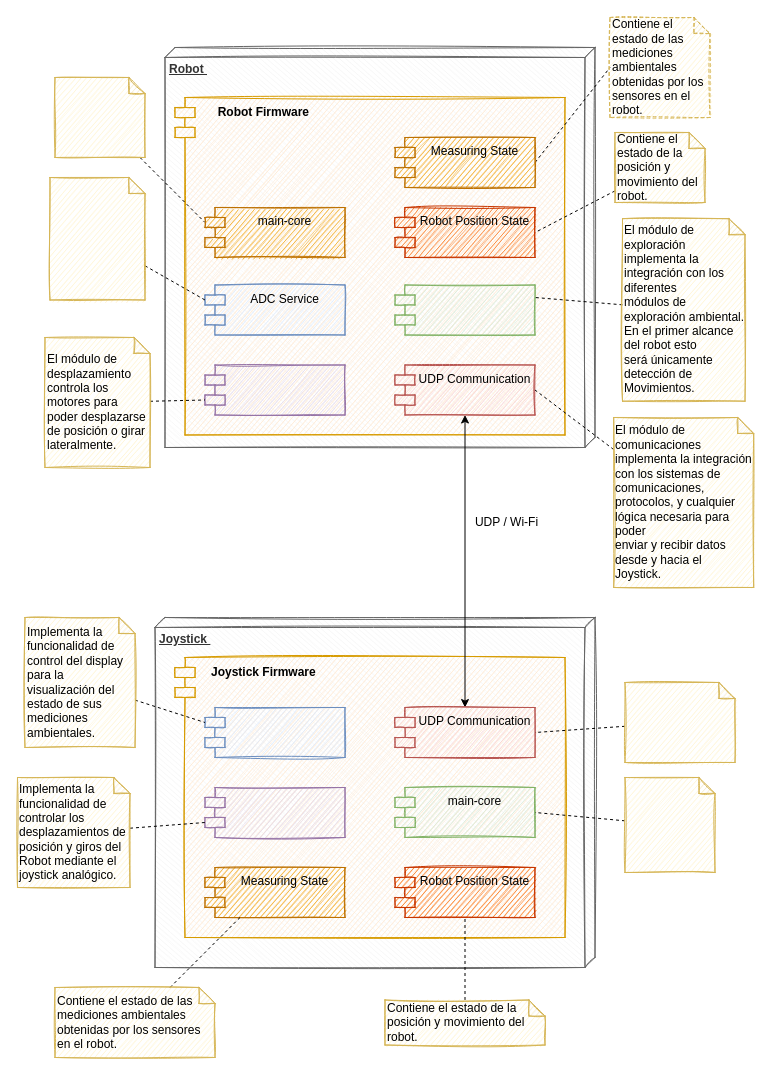
Image size: 772x1075. Some labels were removed from this diagram. The centre of each missing label's shape, as x and y in pixels:
Componente principal desde el cual se orquestan los demás módulos del joystick.: the point at 669,824
Display Service: the point at 274,732
Implementa la comunicación UDP sobre WiFi entre el robot y el joystick.: the point at 679,722
Implementa la gestión del módulo ADC utilizado por los demás servicios.: the point at 97,238
Joystick Service: the point at 274,812
Measuring Service: the point at 464,309
Motors Service: the point at 274,389
Orquesta la ejecución de todos los demás módulo.: the point at 99,117
